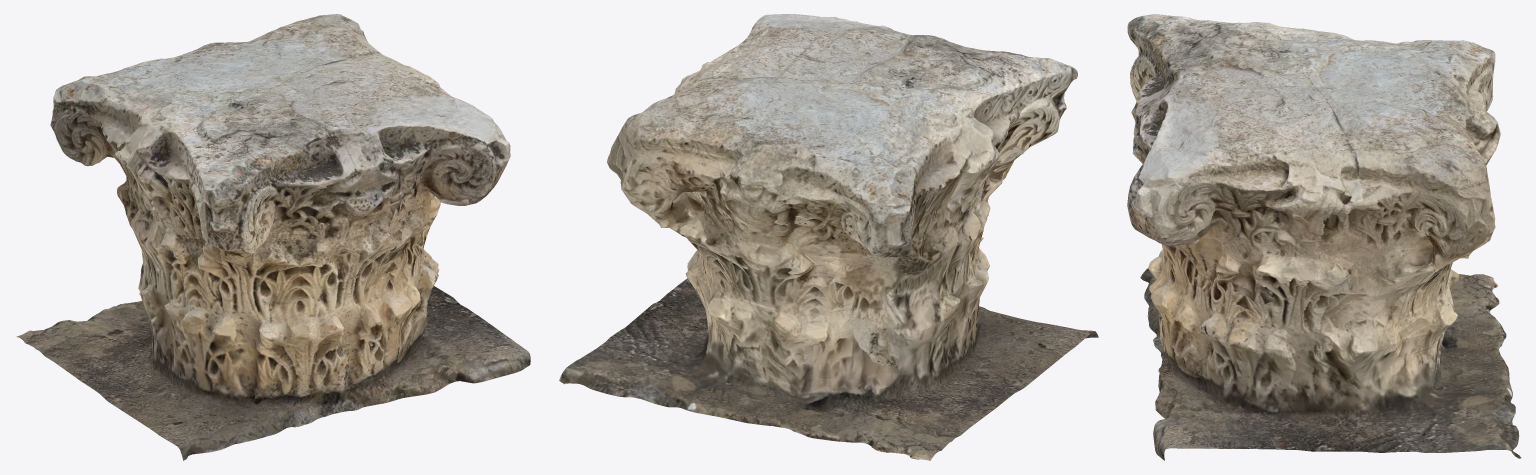
Rendered from corinthian-capital.glb.
3 renders of one model, left to right at view 1: azimuth 30°, elevation 25°; view 2: azimuth 150°, elevation 25°; view 3: azimuth 270°, elevation 25°, orthographic. The views are drawn at different scales.
Parts seen in each view (by area): view 1: Object_2; view 2: Object_2; view 3: Object_2.
Part boxes in pixels (x1,y1,x2,y2): Object_2: [16, 14, 530, 460]; Object_2: [559, 14, 1098, 460]; Object_2: [1127, 14, 1521, 460].
Size of the model in its own units: 0.6507 by 0.4881 by 0.5925.
1 material, 1 textured.
